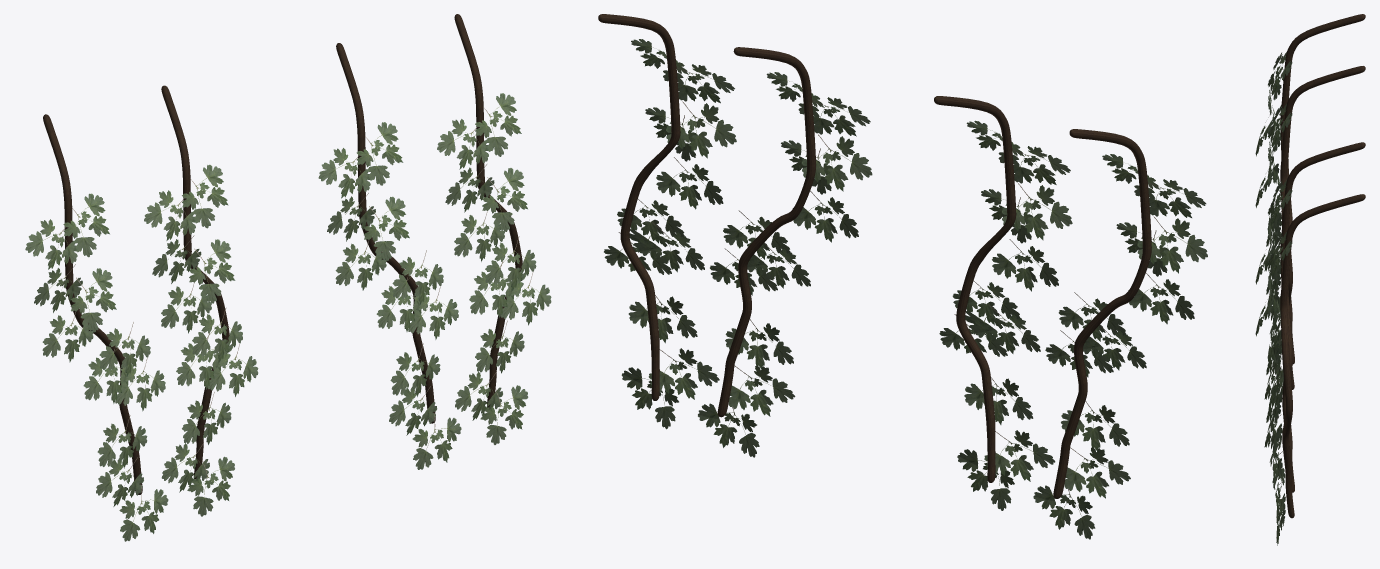
Rendered from Amazonie_Lierre_4.fbx.
The picture shows the model from 3 angles, left to right: view 1: azimuth 30°, elevation 25°; view 2: azimuth 150°, elevation 25°; view 3: azimuth 270°, elevation 25°; orthographic projection. The views are drawn at different scales.
Visible parts, largest first — view 1: Plane.047, Plane.001, Plane, Plane.004, Plane.002, Plane.003; view 2: Plane.047, Plane.001, Plane.003, Plane.004, Plane.002, Plane; view 3: Plane.047, Plane.001, Plane.002, Plane, Plane.003, Plane.004.
Part boxes in pixels (bbox=[...]): Plane.047: bbox=[318, 93, 551, 469]; Plane.001: bbox=[25, 164, 258, 541]; Plane: bbox=[336, 43, 435, 423]; Plane.004: bbox=[43, 114, 142, 494]; Plane.002: bbox=[454, 14, 522, 407]; Plane.003: bbox=[161, 85, 229, 478]; Plane.047: bbox=[604, 39, 872, 457]; Plane.001: bbox=[939, 120, 1207, 539]; Plane.003: bbox=[934, 96, 1016, 482]; Plane.004: bbox=[1053, 129, 1151, 498]; Plane.002: bbox=[598, 14, 680, 400]; Plane: bbox=[717, 47, 815, 417]; Plane.047: bbox=[1255, 180, 1292, 545]; Plane.001: bbox=[1255, 52, 1292, 414]; Plane.002: bbox=[1280, 194, 1365, 518]; Plane: bbox=[1280, 142, 1365, 492]; Plane.003: bbox=[1280, 66, 1365, 389]; Plane.004: bbox=[1280, 14, 1365, 364].
Bounding box in the file's own units: 2676 × 1921 × 544.
